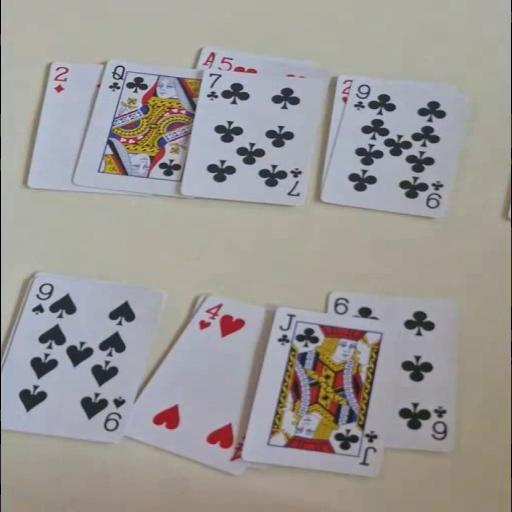2: (50, 64, 70, 94)
4: (194, 300, 224, 331)
6: (428, 404, 450, 441)
7: (284, 166, 304, 197), (203, 71, 223, 102)
9: (100, 394, 128, 433), (28, 280, 56, 316), (422, 178, 446, 210), (350, 82, 372, 111), (344, 78, 356, 110)
J: (356, 428, 380, 467), (273, 312, 296, 346)
Q: (104, 62, 126, 92)
